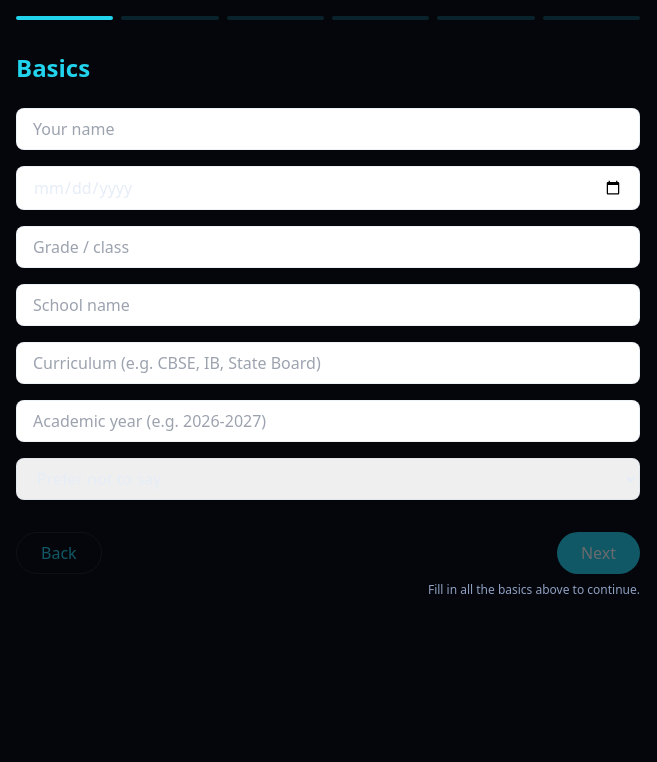
Scenario: OnboardingWizard › requires guardian fields once a date of birth implies the student is a minor
In the date field: (328, 188) [16, 166, 640, 210], type "2015-01-01"
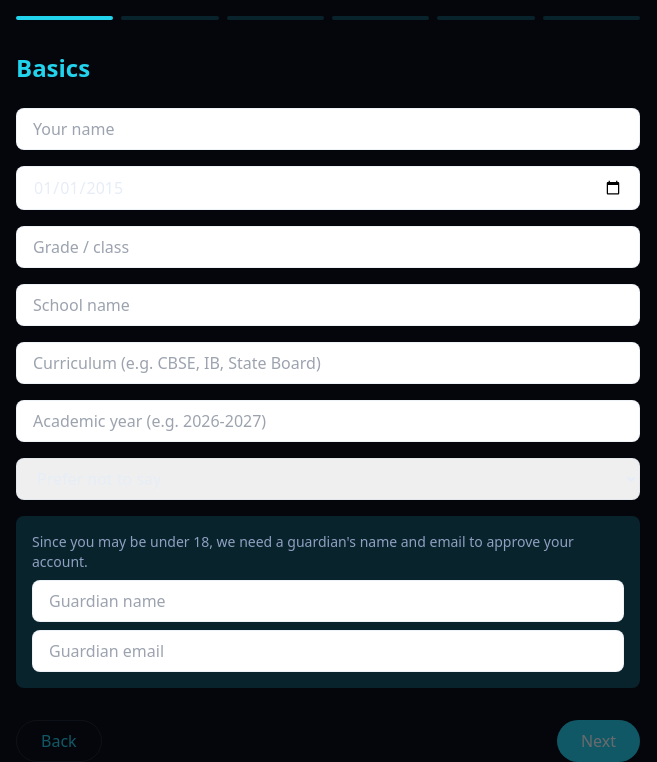
Expected: the button "Next" is disabled, [557, 720, 640, 761]
Expected: the field with placeholder "Guardian name" is shown, [32, 580, 624, 622]
